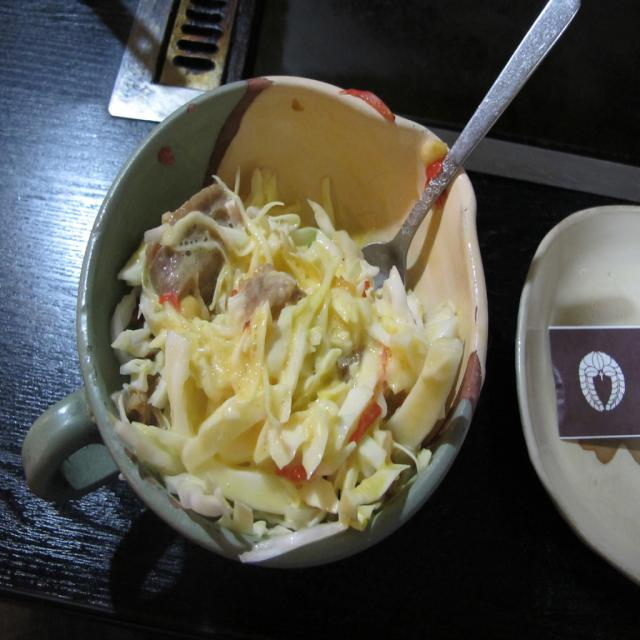non-organic waste: (67, 55, 486, 578)
